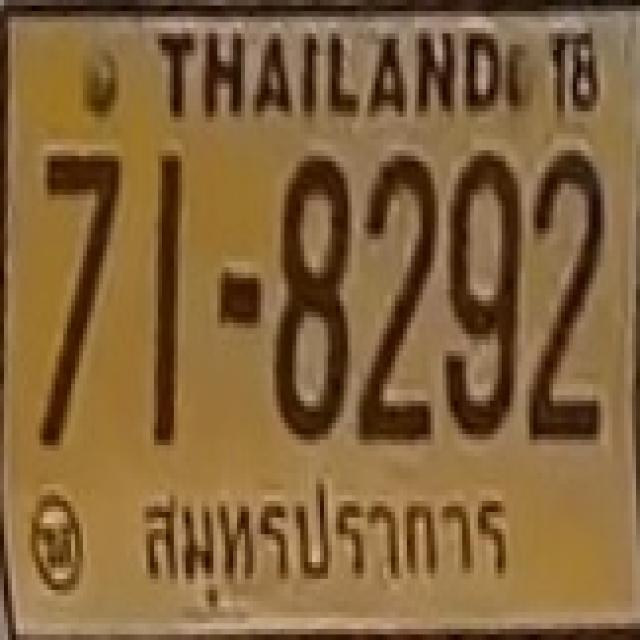1: (150, 150, 182, 434)
2: (526, 147, 603, 445), (358, 154, 434, 455)
7: (32, 151, 118, 452)
8: (272, 150, 348, 434)
9: (442, 150, 518, 434)
SPK: (135, 480, 520, 587)
